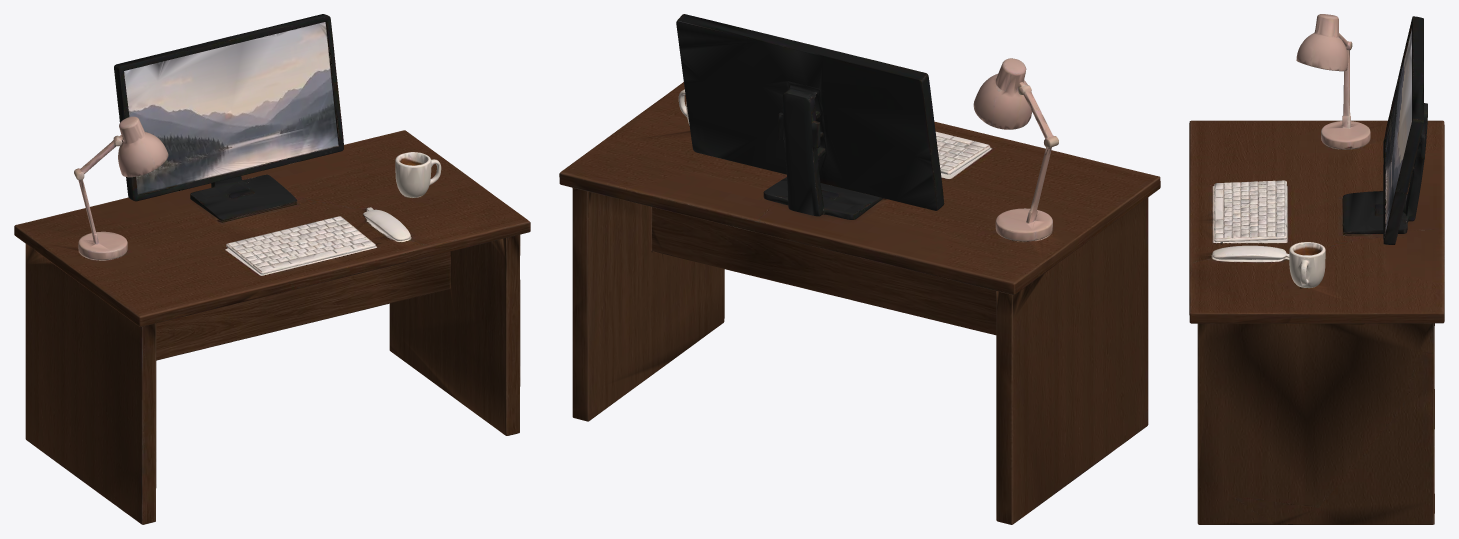
The model's file is desk.glb.
3 views of the same model, side by side, from view 1: azimuth 30°, elevation 25°; view 2: azimuth 150°, elevation 25°; view 3: azimuth 270°, elevation 25° (orthographic). The views are drawn at different scales.
Bounding box in the file's own units: 1.9 × 1.67 × 1.06.
1 material, 1 textured.
